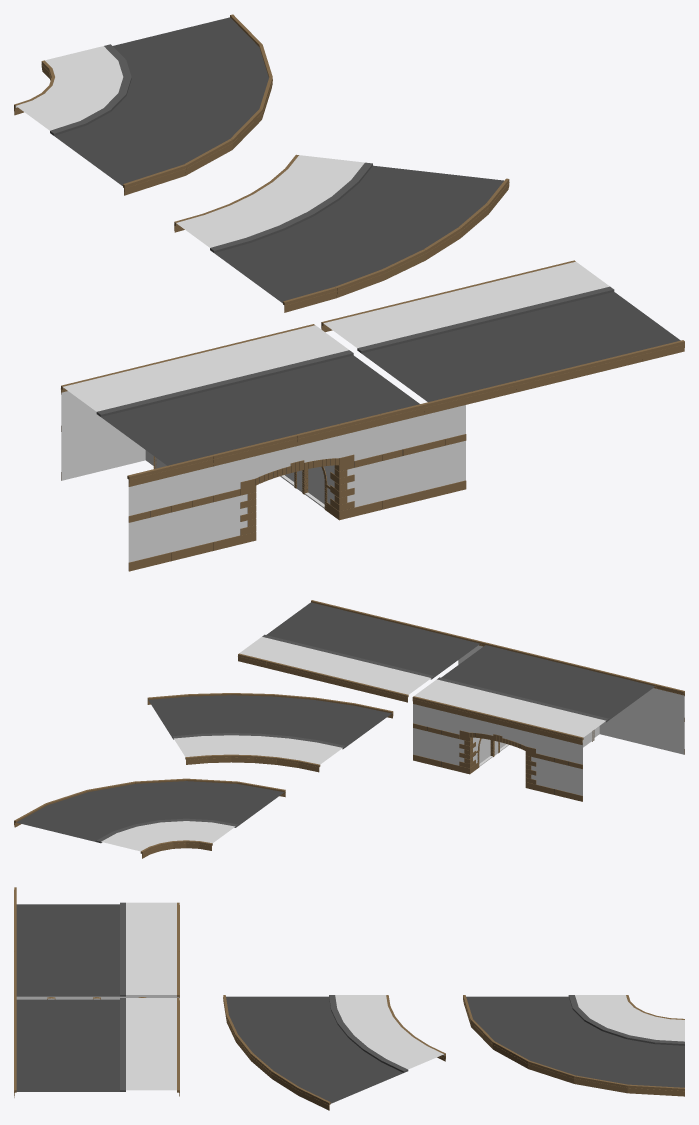
The model's file is Bridge.001.fbx.
The picture shows the model from 3 angles, top to bottom: view 1: azimuth 30°, elevation 25°; view 2: azimuth 150°, elevation 25°; view 3: azimuth 270°, elevation 25°; orthographic projection. The views are drawn at different scales.
Visible parts, largest first — view 1: Bridge.001, Bridge.001.Road.A, Bridge.001.Road.B, Bridge.001.Road.C, Bridge.001.Wall.Left, Bridge.001.Wall.Right; view 2: Bridge.001, Bridge.001.Road.A, Bridge.001.Road.B, Bridge.001.Road.C, Bridge.001.Wall.Left; view 3: Bridge.001.Road.C, Bridge.001.Road.B, Bridge.001, Bridge.001.Road.A.
Boxes of the visible parts, x1,y1,x2,y2 form: Bridge.001: [61, 324, 424, 561]; Bridge.001.Road.A: [321, 260, 684, 412]; Bridge.001.Road.B: [174, 154, 509, 312]; Bridge.001.Road.C: [14, 14, 272, 195]; Bridge.001.Wall.Left: [127, 465, 171, 571]; Bridge.001.Wall.Right: [423, 393, 466, 499]; Bridge.001: [412, 642, 656, 801]; Bridge.001.Road.A: [238, 600, 481, 702]; Bridge.001.Road.B: [147, 693, 393, 772]; Bridge.001.Road.C: [14, 778, 285, 858]; Bridge.001.Wall.Left: [655, 684, 684, 754]; Bridge.001.Road.C: [463, 995, 684, 1096]; Bridge.001.Road.B: [223, 995, 445, 1110]; Bridge.001: [14, 902, 179, 999]; Bridge.001.Road.A: [14, 998, 179, 1097].
Size of the model in its own units: 2802 by 430 by 3681.
